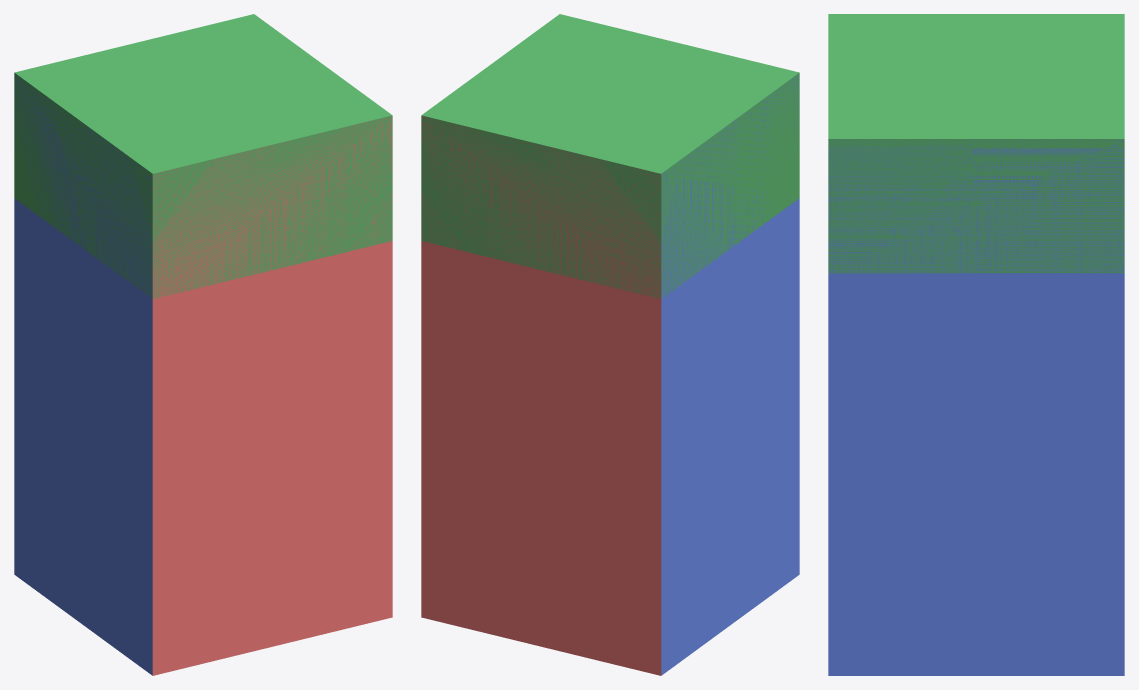
File: meas_negative.pipe_length_1_0.dae
3 renders of one model, left to right at view 1: azimuth 30°, elevation 25°; view 2: azimuth 150°, elevation 25°; view 3: azimuth 270°, elevation 25°, orthographic. The views are drawn at different scales.
Visible parts, largest first — view 1: ZXX (×2), ZXO (×2), Y (×3); view 2: ZXX (×2), Y (×3), ZXO (×2); view 3: ZXX, Y (×2), ZXO.
Boxes of the visible parts, bbox=[...] form: ZXX (×2): bbox=[14, 324, 392, 675]; ZXO (×2): bbox=[14, 73, 392, 424]; Y (×3): bbox=[14, 14, 392, 298]; ZXX (×2): bbox=[421, 324, 799, 675]; Y (×3): bbox=[421, 14, 799, 298]; ZXO (×2): bbox=[421, 73, 799, 424]; ZXX: bbox=[828, 407, 1124, 675]; Y (×2): bbox=[828, 14, 1124, 273]; ZXO: bbox=[828, 139, 1124, 407].
Size of the model in its own units: 1 by 1 by 2.
